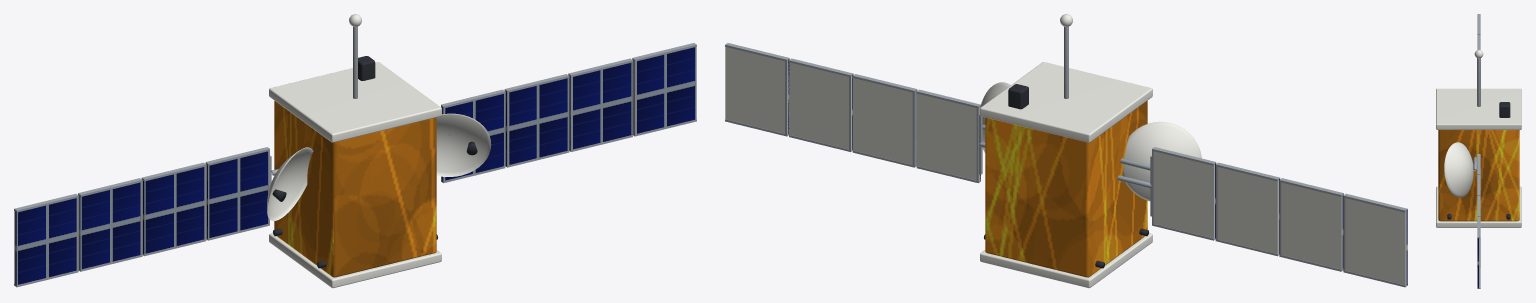
File: satellite.glb
3 views of the same model, side by side, from view 1: azimuth 30°, elevation 25°; view 2: azimuth 150°, elevation 25°; view 3: azimuth 270°, elevation 25° (orthographic). The views are drawn at different scales.
Visible parts, largest first — view 1: corps, panneau_g1, panneau_g3, panneau_g2, panneau_d3, panneau_d1, panneau_d2, panneau_g0, panneau_d0; view 2: corps, panneau_g1, panneau_g3, panneau_g2, panneau_d3, panneau_d1, panneau_d2, panneau_g0, panneau_d0; view 3: corps, panneau_d3, panneau_d2, panneau_d1, panneau_d0, panneau_g3.
Boxes of the visible parts, x1=… form: corps: x1=267, y1=14, x2=491, y2=288; panneau_g1: x1=141, y1=162, x2=206, y2=256; panneau_g3: x1=14, y1=193, x2=78, y2=287; panneau_g2: x1=78, y1=178, x2=142, y2=271; panneau_d3: x1=632, y1=43, x2=696, y2=136; panneau_d1: x1=504, y1=74, x2=569, y2=167; panneau_d2: x1=568, y1=58, x2=632, y2=151; panneau_g0: x1=205, y1=147, x2=269, y2=240; panneau_d0: x1=441, y1=89, x2=505, y2=183; corps: x1=980, y1=14, x2=1201, y2=288; panneau_g1: x1=1215, y1=162, x2=1280, y2=256; panneau_g3: x1=1343, y1=193, x2=1407, y2=287; panneau_g2: x1=1279, y1=178, x2=1343, y2=271; panneau_d3: x1=725, y1=43, x2=789, y2=136; panneau_d1: x1=852, y1=74, x2=917, y2=167; panneau_d2: x1=789, y1=58, x2=853, y2=151; panneau_g0: x1=1152, y1=147, x2=1216, y2=240; panneau_d0: x1=916, y1=89, x2=980, y2=183; corps: x1=1436, y1=50, x2=1521, y2=227; panneau_d3: x1=1477, y1=217, x2=1480, y2=288; panneau_d2: x1=1477, y1=196, x2=1480, y2=216; panneau_d1: x1=1477, y1=175, x2=1480, y2=195; panneau_d0: x1=1477, y1=154, x2=1480, y2=174; panneau_g3: x1=1477, y1=14, x2=1480, y2=34.
Size of the model in its own units: 1.43 by 0.532 by 0.232.
Materials: 6 (2 with a texture image).
